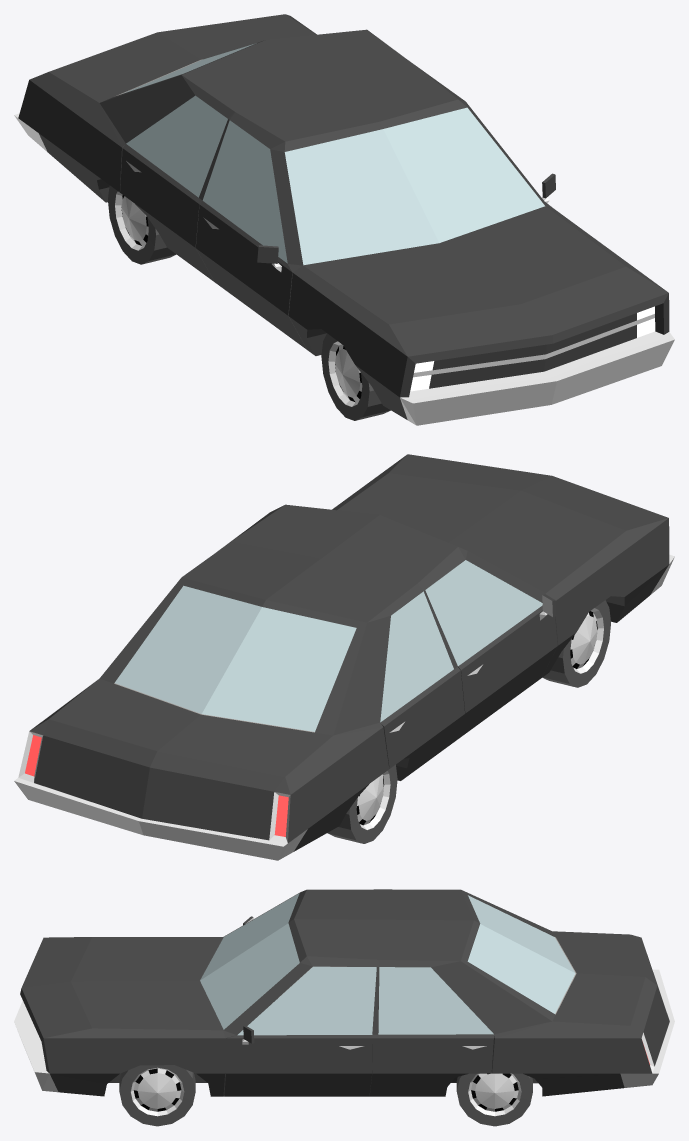
The model's file is car.glb.
3 views of the same model, one above another, from view 1: azimuth 30°, elevation 25°; view 2: azimuth 150°, elevation 25°; view 3: azimuth 270°, elevation 25° (orthographic). The views are drawn at different scales.
Visible parts, largest first — view 1: SedanA_Body, SedanA_DoorR, SedanA_DoorR2, SedanA_Trunk, Sedan_A_wheelFR, Sedan_A_wheelRR; view 2: SedanA_Body, SedanA_Trunk, SedanA_DoorR, SedanA_DoorR2, Sedan_A_wheelFR, Sedan_A_wheelRR; view 3: SedanA_Body, SedanA_DoorL, SedanA_DoorL2, SedanA_Trunk, Sedan_A_wheelFL, Sedan_A_wheelRL.
Boxes of the visible parts, left/top/right/bottom form: SedanA_Body: left=14, top=14, right=674, bottom=425; SedanA_DoorR: left=196, top=120, right=306, bottom=349; SedanA_DoorR2: left=120, top=95, right=227, bottom=282; SedanA_Trunk: left=49, top=14, right=303, bottom=96; Sedan_A_wheelFR: left=321, top=333, right=390, bottom=420; Sedan_A_wheelRR: left=108, top=185, right=176, bottom=264; SedanA_Body: left=14, top=454, right=674, bottom=860; SedanA_Trunk: left=43, top=683, right=314, bottom=791; SedanA_DoorR: left=425, top=560, right=557, bottom=745; SedanA_DoorR2: left=380, top=591, right=464, bottom=780; Sedan_A_wheelFR: left=542, top=600, right=610, bottom=687; Sedan_A_wheelRR: left=327, top=764, right=397, bottom=843; SedanA_Body: left=14, top=889, right=674, bottom=1096; SedanA_DoorL: left=224, top=966, right=376, bottom=1096; SedanA_DoorL2: left=369, top=967, right=494, bottom=1096; SedanA_Trunk: left=556, top=934, right=657, bottom=1031; Sedan_A_wheelFL: left=119, top=1065, right=195, bottom=1126; Sedan_A_wheelRL: left=456, top=1073, right=532, bottom=1126.
Size of the model in its own units: 2.31 by 1.5 by 5.6.
11 materials, 2 textured.
